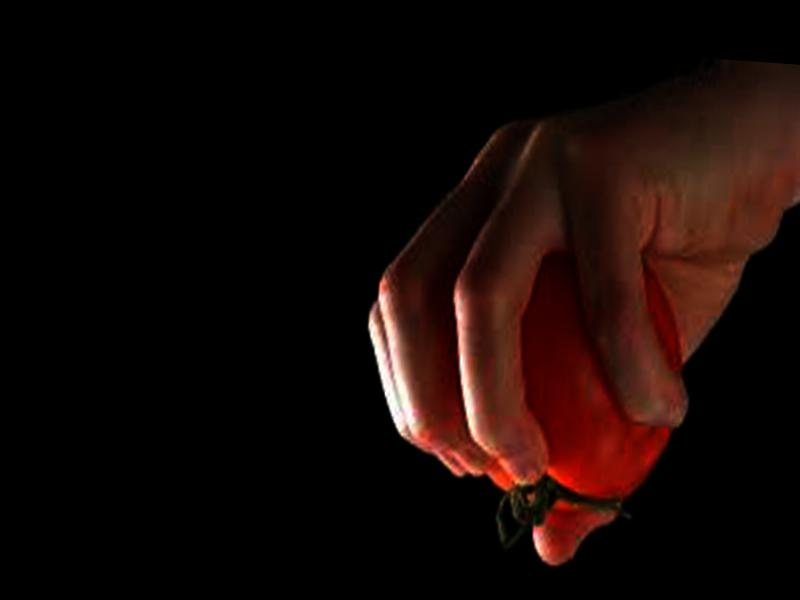Tomato: (482, 239, 690, 506)
